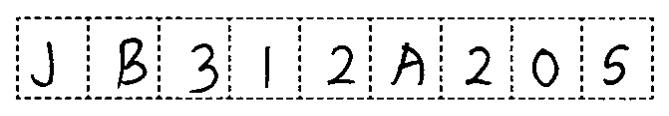0: (525, 43, 566, 92)
1: (250, 40, 286, 93)
2: (322, 41, 362, 90), (460, 40, 495, 92)
3: (183, 39, 223, 95)
5: (596, 41, 634, 90)
A: (387, 40, 430, 91)
B: (113, 33, 150, 91)
J: (25, 37, 61, 90)
